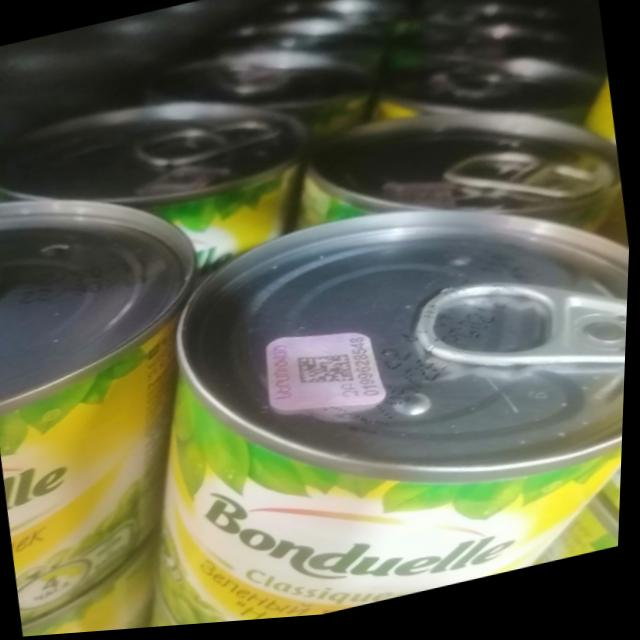datamatrix: (298, 349, 362, 400)
